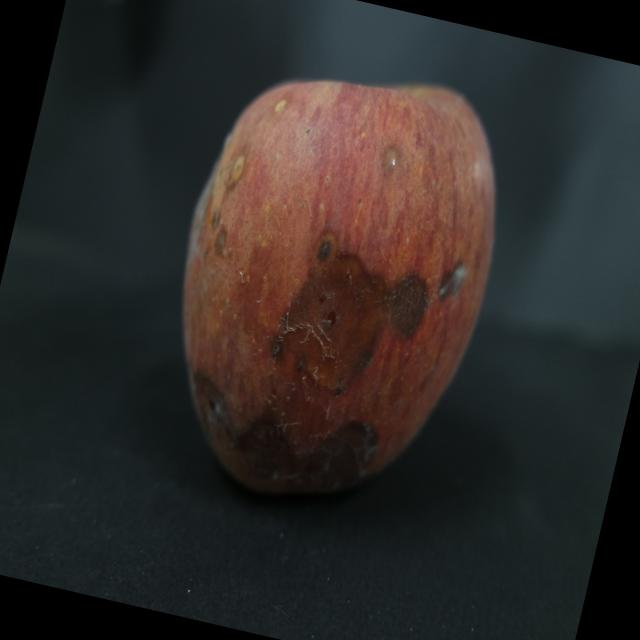rotten: (121, 34, 541, 550)
